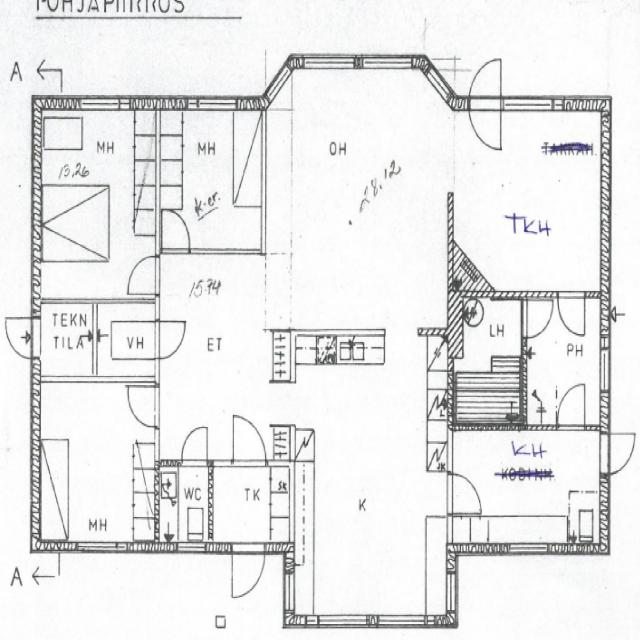door: (231, 542, 266, 606), (468, 50, 501, 110), (468, 96, 501, 156), (233, 412, 266, 467), (2, 318, 42, 359), (602, 433, 639, 475), (127, 387, 160, 427), (558, 290, 585, 338), (446, 475, 479, 513), (128, 256, 160, 294), (558, 384, 585, 429), (99, 260, 126, 304), (520, 300, 552, 337), (182, 424, 207, 466), (163, 212, 187, 253)
